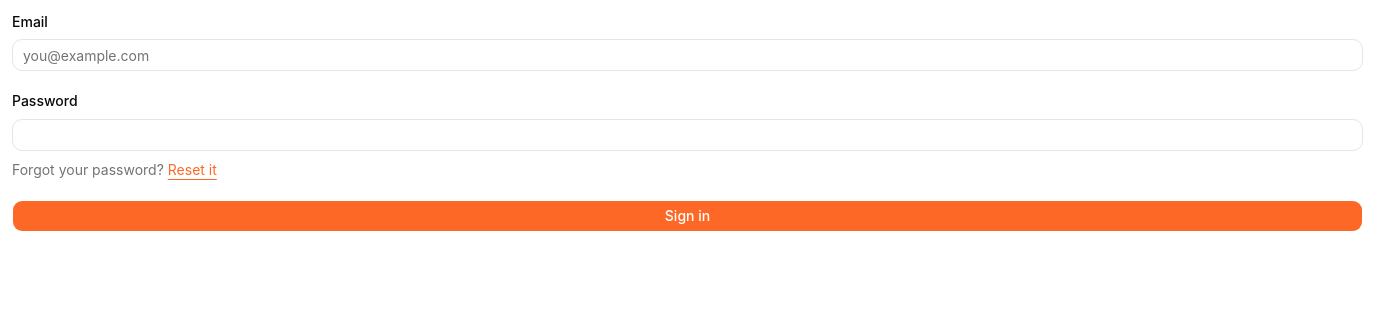
Test: LoginForm › surfaces a generic error when the network fails
Type "nathan@example.com" into the field labelled "Email".
click(688, 55); type("nathan@example.com")  # box [12,39,1363,71]
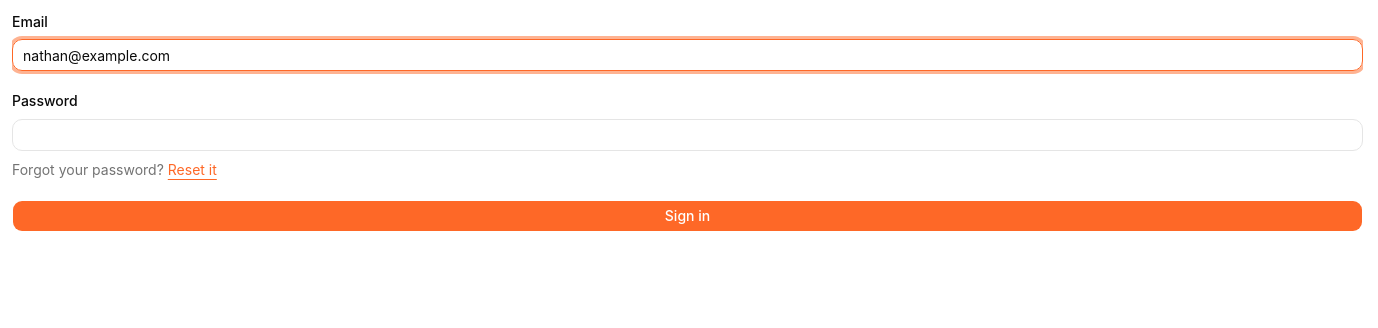
Type "hunter2" into the password field labelled "Password".
click(688, 134); type("hunter2")  # box [12,118,1363,150]
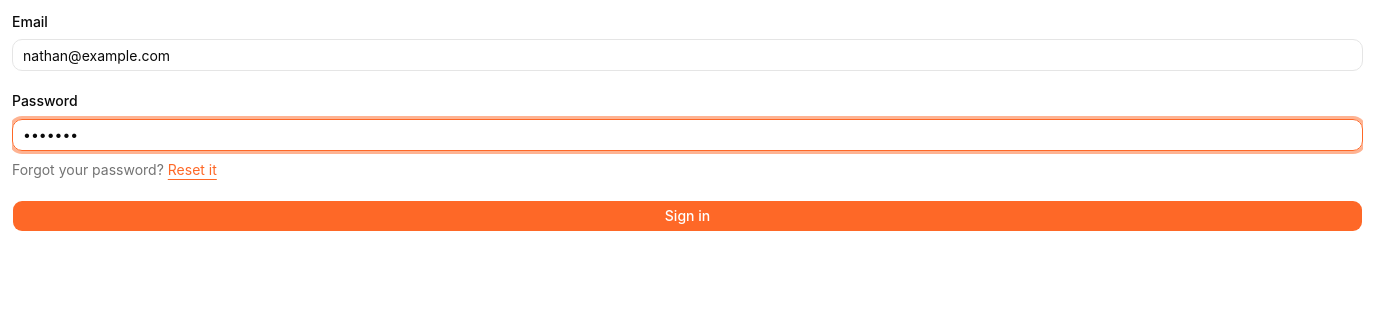
Click the button "Sign in".
click(688, 216)  # box [12,200,1363,232]
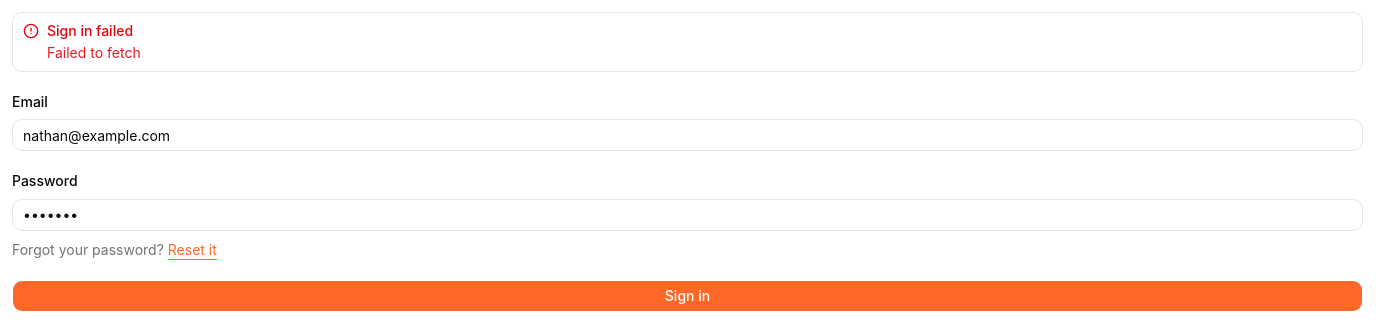
Check: the message shows "Failed to fetch", box [47,44,141,61]
